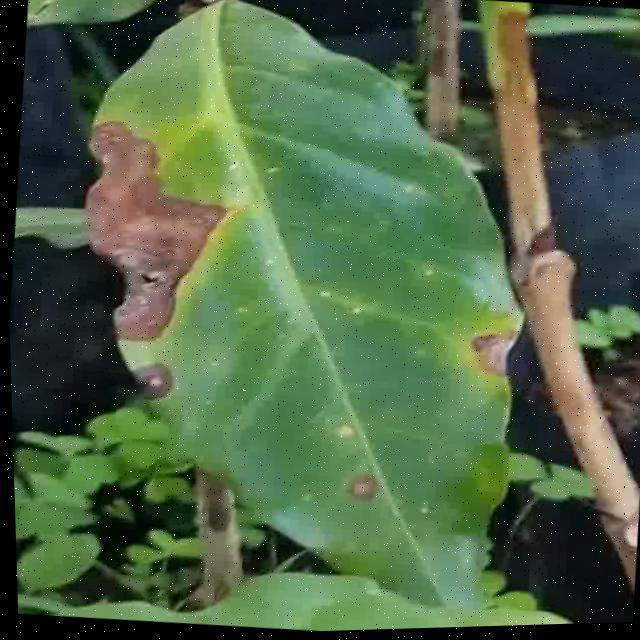leaves: (36, 0, 594, 640)
